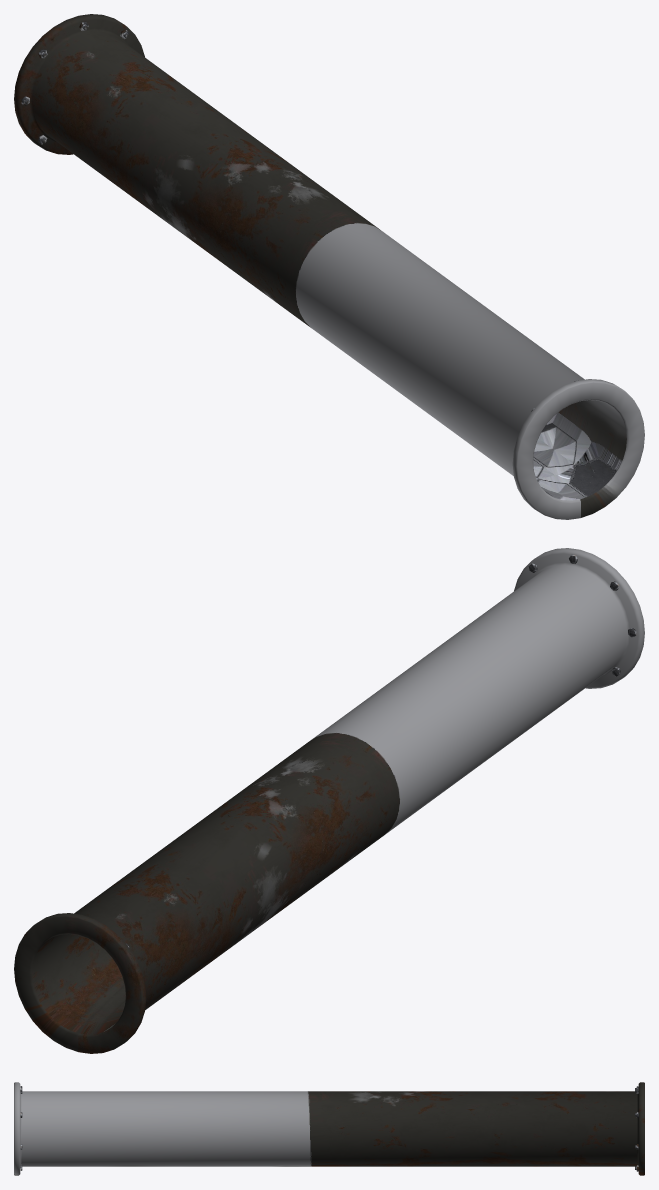
The model's file is pipestraight.fbx.
3 renders of one model, top to bottom at view 1: azimuth 30°, elevation 25°; view 2: azimuth 150°, elevation 25°; view 3: azimuth 270°, elevation 25°, orthographic. The views are drawn at different scales.
Visible parts, largest first — view 1: straight_lo; view 2: straight_lo; view 3: straight_lo.
Boxes of the visible parts, box(x1,y1,x2,y2) form: straight_lo: box(14, 14, 644, 519); straight_lo: box(14, 548, 644, 1053); straight_lo: box(14, 1082, 644, 1175).
Bounding box in the file's own units: 29.6 × 29.6 × 200.
